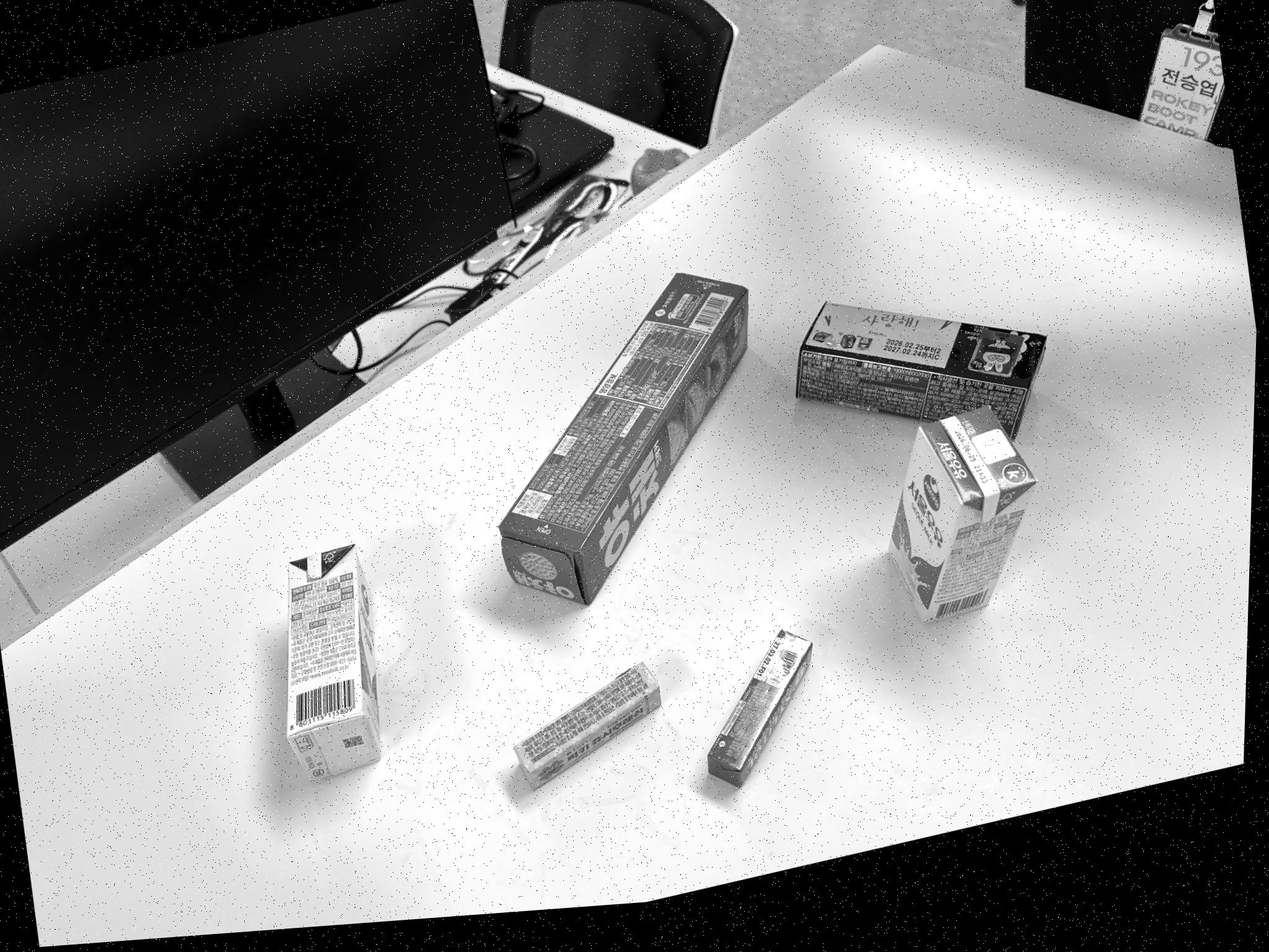cracker_ace: (796, 301, 1045, 435)
cracker_vege: (500, 273, 747, 603)
gum_green: (708, 630, 812, 786)
gum_yellow: (514, 663, 661, 788)
milk_blue: (285, 545, 381, 778)
milk_green: (890, 406, 1036, 622)
